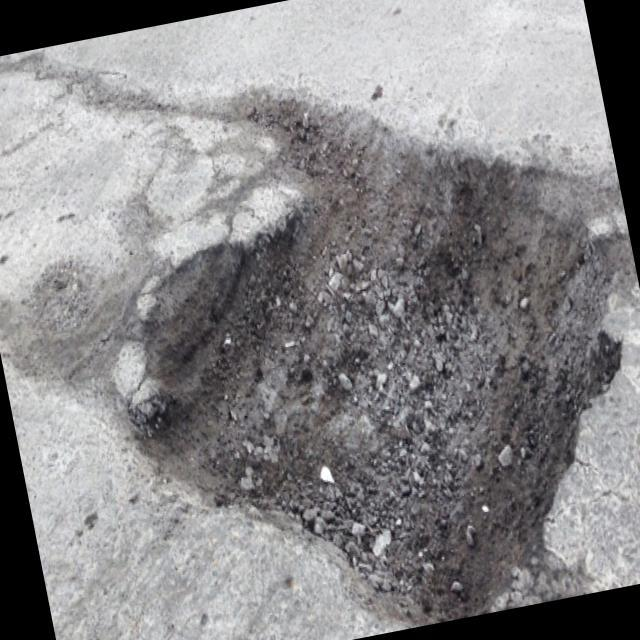Pothole: (20, 3, 640, 640)
